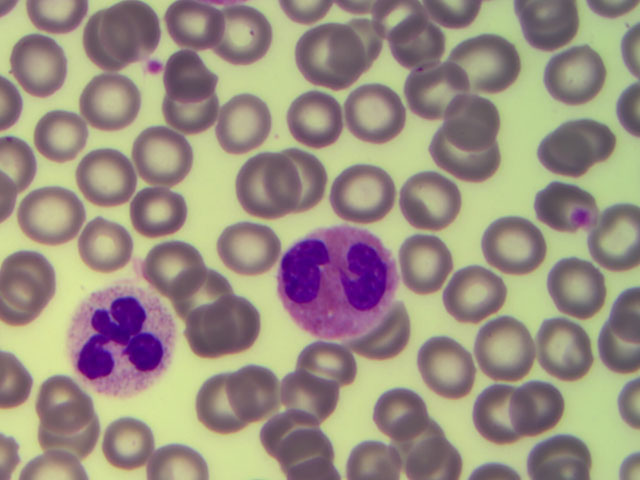Platelets: (139, 54, 166, 77), (572, 208, 590, 225)
RBC: (544, 254, 610, 320), (531, 320, 597, 386), (474, 315, 540, 381), (409, 336, 475, 402), (504, 367, 570, 433), (468, 378, 534, 444), (370, 373, 436, 439), (393, 414, 459, 480), (7, 35, 76, 94), (86, 4, 155, 63), (74, 72, 143, 131), (33, 106, 102, 165), (15, 188, 84, 247), (69, 152, 138, 211), (120, 126, 189, 185), (124, 187, 193, 246), (85, 210, 154, 269), (148, 237, 217, 296), (157, 257, 226, 316), (193, 295, 262, 354), (186, 362, 255, 421), (230, 369, 299, 428), (287, 370, 356, 429), (288, 345, 357, 404), (261, 398, 330, 457), (91, 410, 160, 469), (53, 406, 122, 465), (22, 361, 91, 420), (4, 247, 73, 306), (208, 218, 277, 277), (225, 158, 294, 217), (271, 149, 340, 208), (209, 93, 278, 152), (155, 91, 224, 150), (156, 62, 225, 121), (205, 8, 274, 67), (295, 31, 364, 90), (280, 90, 349, 149), (343, 82, 412, 141), (400, 63, 469, 122), (379, 26, 448, 85), (336, 18, 405, 77), (454, 30, 523, 89), (445, 98, 514, 157), (426, 123, 495, 182), (402, 169, 471, 228), (340, 162, 409, 221), (395, 238, 464, 297), (438, 264, 507, 323), (479, 215, 548, 274), (528, 119, 597, 178), (540, 55, 609, 114), (511, 1, 580, 60), (174, 1, 243, 59), (524, 431, 591, 480), (595, 208, 640, 272)
WBC: (281, 224, 395, 342), (67, 283, 182, 391)
